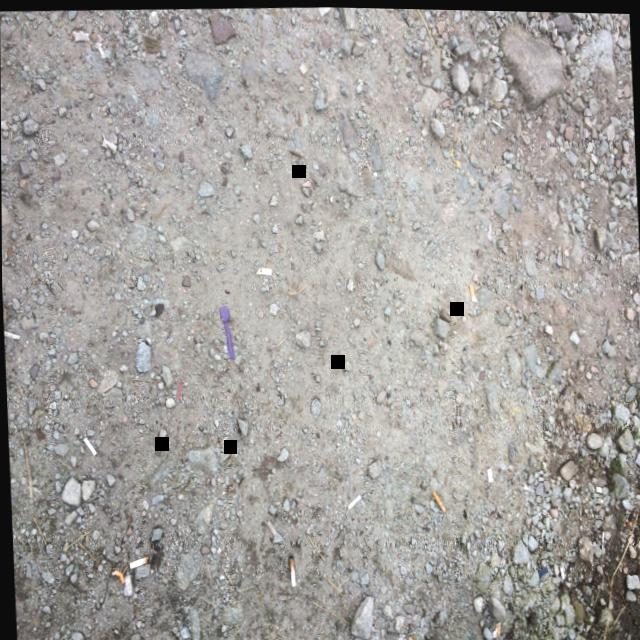Cigarette: (430, 488, 443, 510), (81, 437, 95, 455), (127, 556, 147, 568), (345, 491, 359, 507), (286, 554, 293, 584), (109, 569, 123, 582), (101, 139, 115, 152), (121, 575, 130, 594), (466, 281, 475, 299), (2, 330, 18, 339), (254, 266, 269, 273), (485, 465, 491, 479), (557, 562, 562, 576), (494, 618, 498, 632), (593, 484, 599, 490), (600, 528, 602, 545)
Plastic utensils: (217, 305, 232, 358)
Unlabeled litter: (175, 379, 180, 398)
